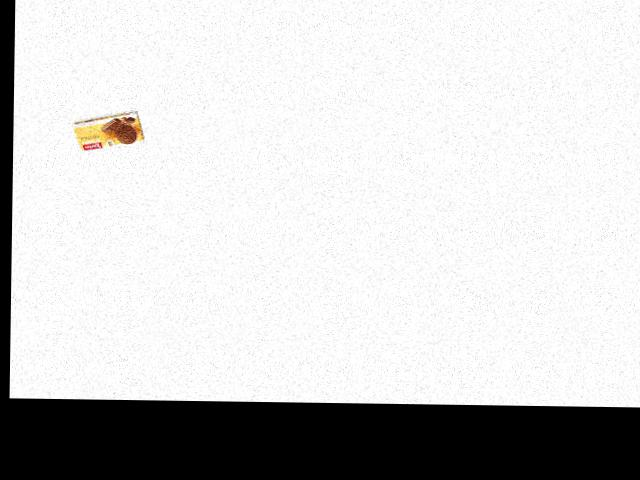chocolate: (60, 117, 149, 152)
